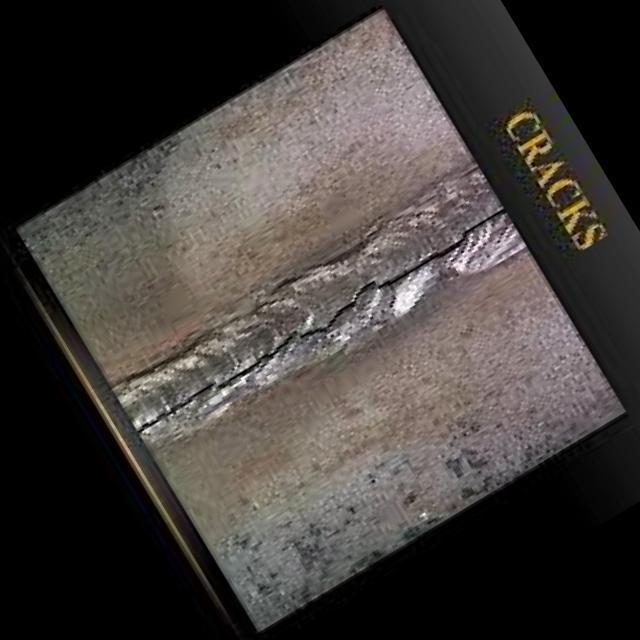defect: (132, 203, 509, 437)
